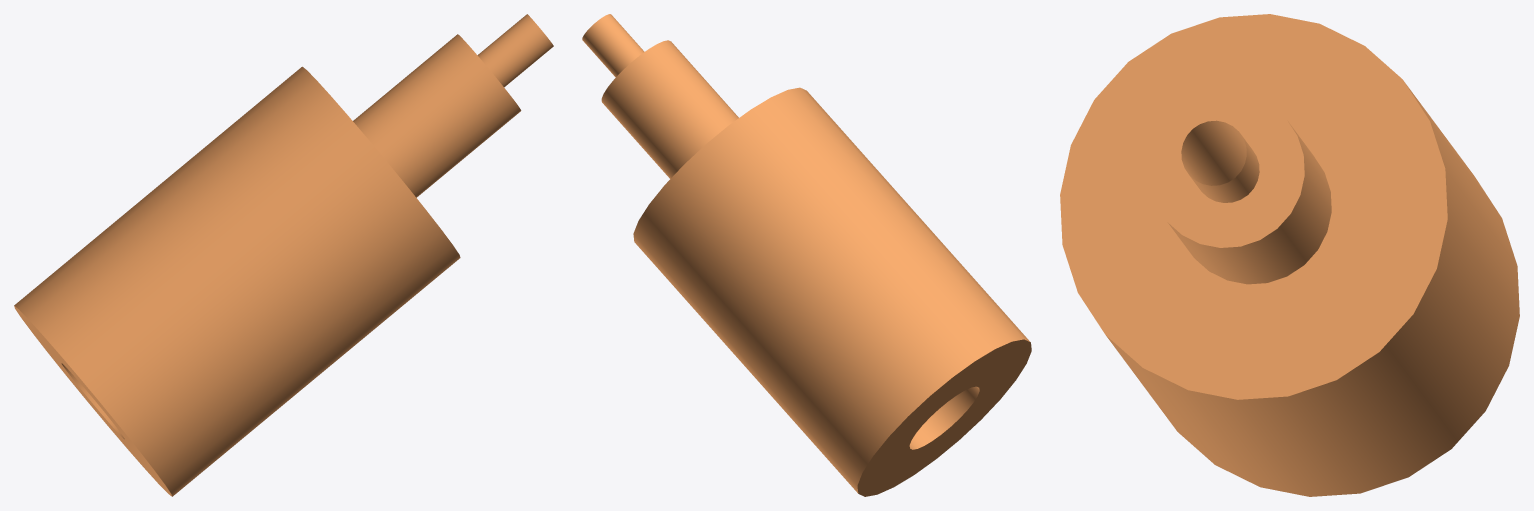
Rendered from LeftLeg.FBX.
The picture shows the model from 3 angles, left to right: view 1: azimuth 30°, elevation 25°; view 2: azimuth 150°, elevation 25°; view 3: azimuth 270°, elevation 25°; orthographic projection. The views are drawn at different scales.
Visible parts, largest first — view 1: LeftLeg; view 2: LeftLeg; view 3: LeftLeg.
Part boxes in pixels (x1,y1,x2,y2): LeftLeg: (14, 14, 553, 496); LeftLeg: (582, 14, 1031, 496); LeftLeg: (1060, 14, 1519, 496).
Size of the model in its own units: 7.05 by 5.64 by 3.68.
